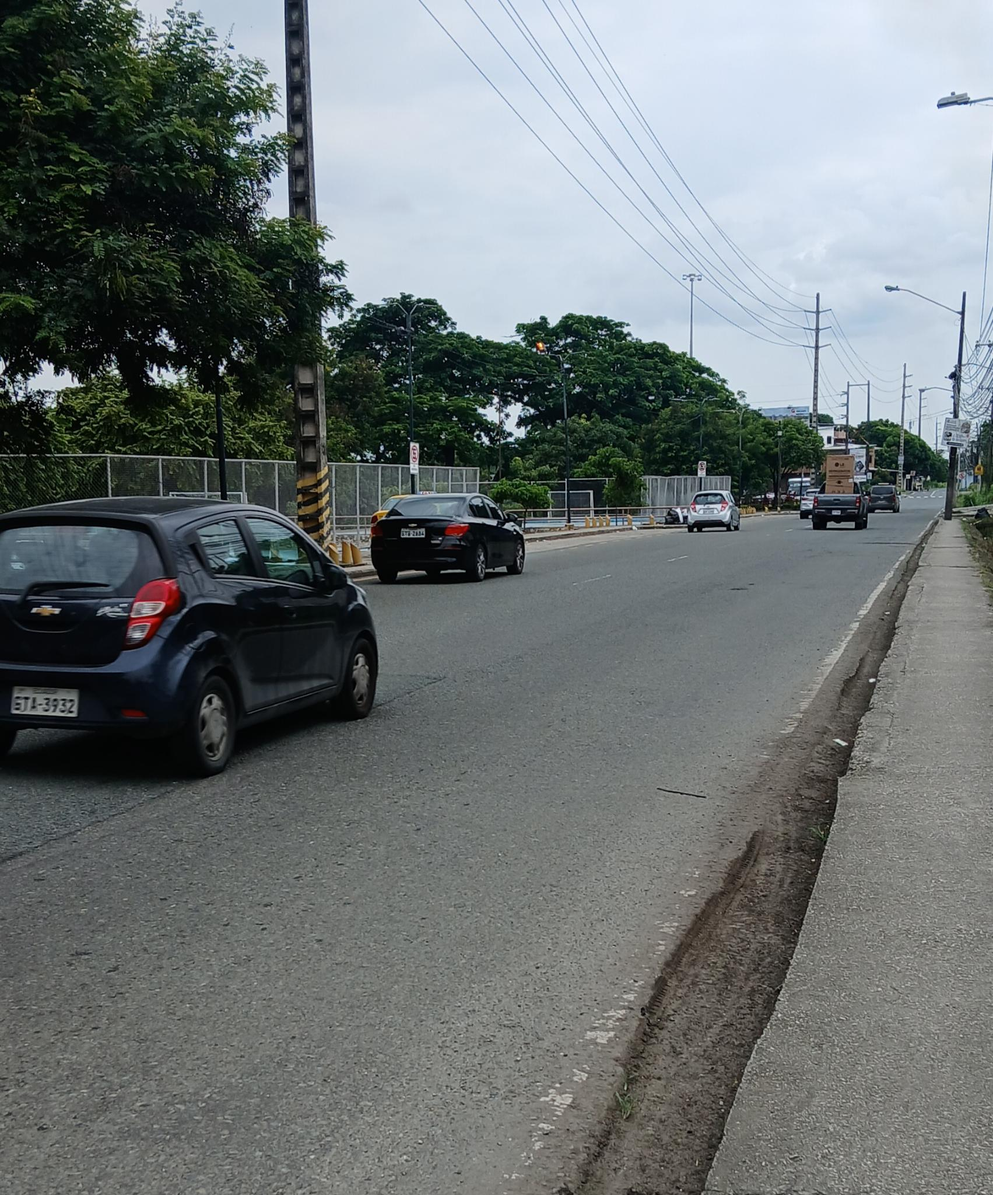license_plate: (9, 687, 79, 718), (399, 528, 426, 538), (699, 506, 718, 514), (826, 509, 845, 514)
